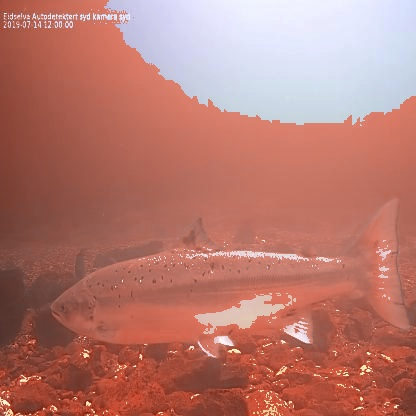salmon: (49, 194, 412, 360)
